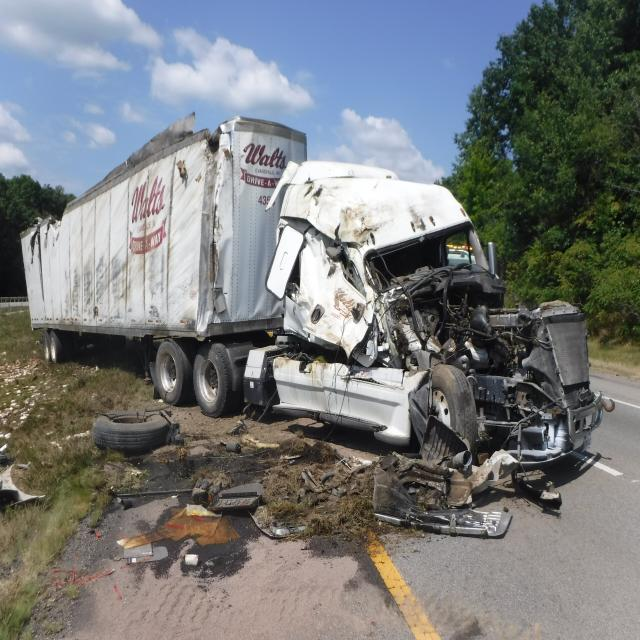Accident: (19, 110, 615, 542)
